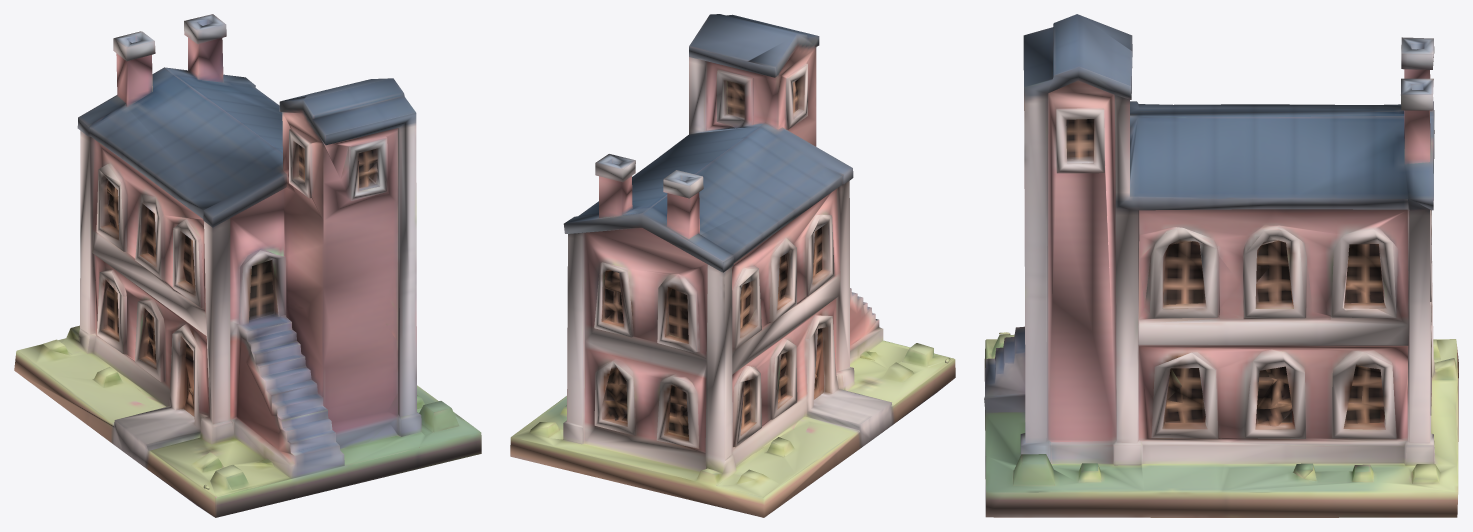
File: dokuma.glb
The picture shows the model from 3 angles, left to right: view 1: azimuth 30°, elevation 25°; view 2: azimuth 150°, elevation 25°; view 3: azimuth 270°, elevation 25°; orthographic projection. The views are drawn at different scales.
Visible parts, largest first — view 1: node_0; view 2: node_0; view 3: node_0.
Boxes of the visible parts, x1,y1,x2,y2 form: node_0: (14, 14, 481, 517); node_0: (510, 14, 955, 517); node_0: (984, 14, 1458, 517).
Size of the model in its own units: 0.5802 by 0.7411 by 0.7523.
1 material, 1 textured.
